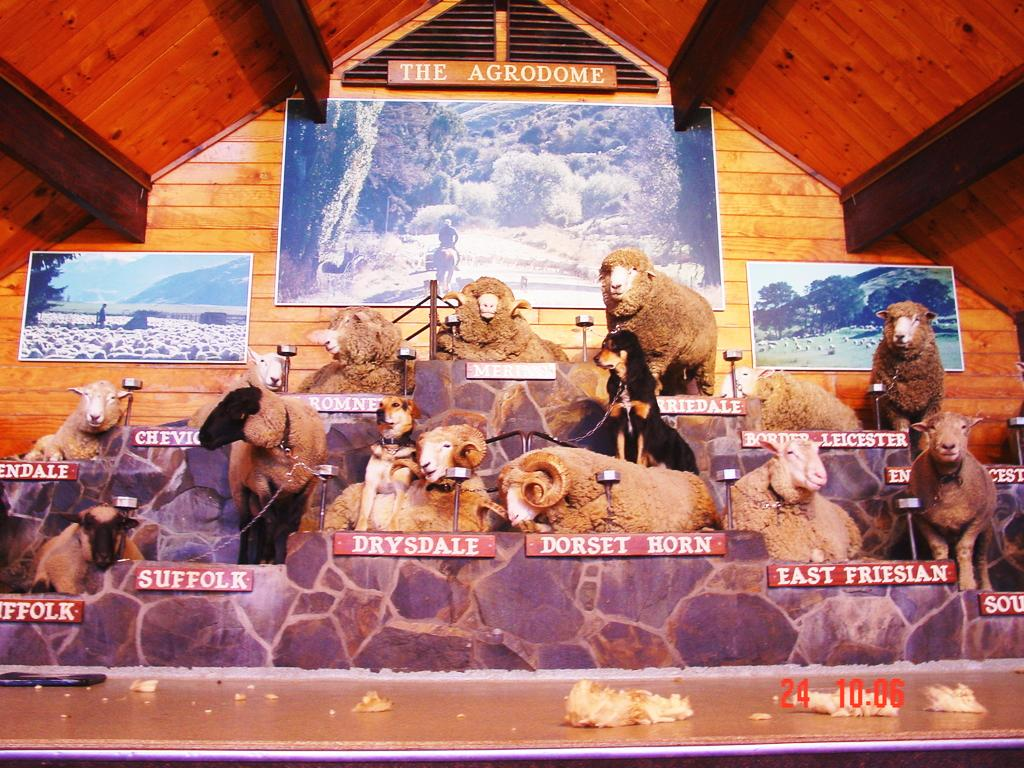Sheep: (888, 399, 1008, 596), (201, 386, 330, 569), (496, 444, 720, 529), (322, 426, 492, 532), (732, 448, 872, 576), (598, 249, 720, 394), (436, 278, 568, 368), (296, 306, 422, 400), (22, 502, 146, 596), (868, 300, 950, 433), (718, 366, 863, 440), (24, 386, 137, 459), (186, 349, 286, 430)
